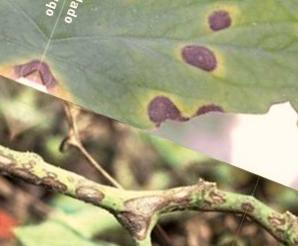Tomato Early blight leaf: (36, 0, 298, 173)
